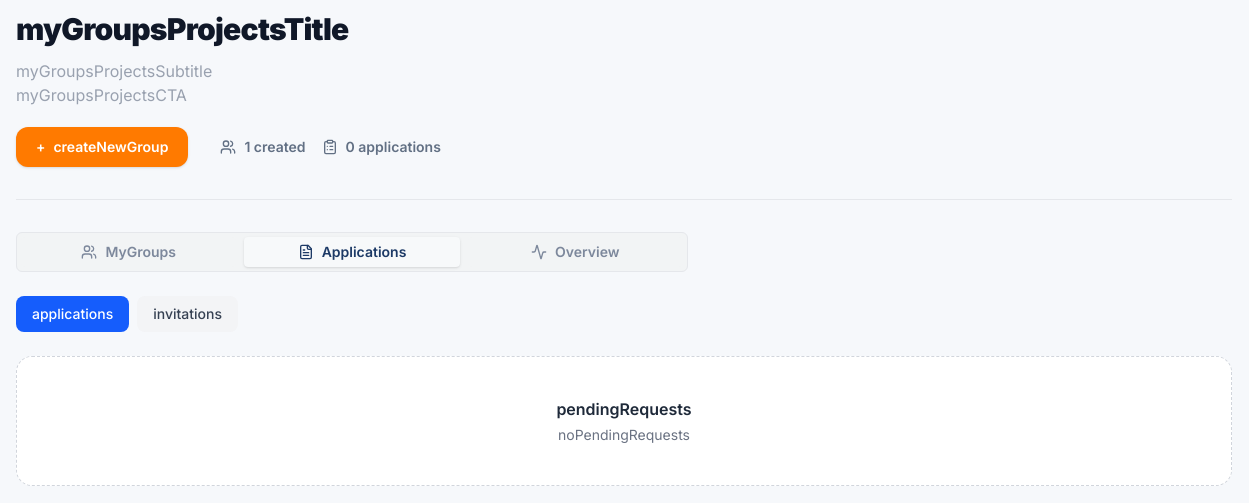
Scenario: MyGroupsPage Report5 › UTC28 [N] Render invitation with topic and message => Shows all details
The width and height of the screenshot is (1249, 503).
Click the button "invitations": (188, 314) [137,296,238,332]
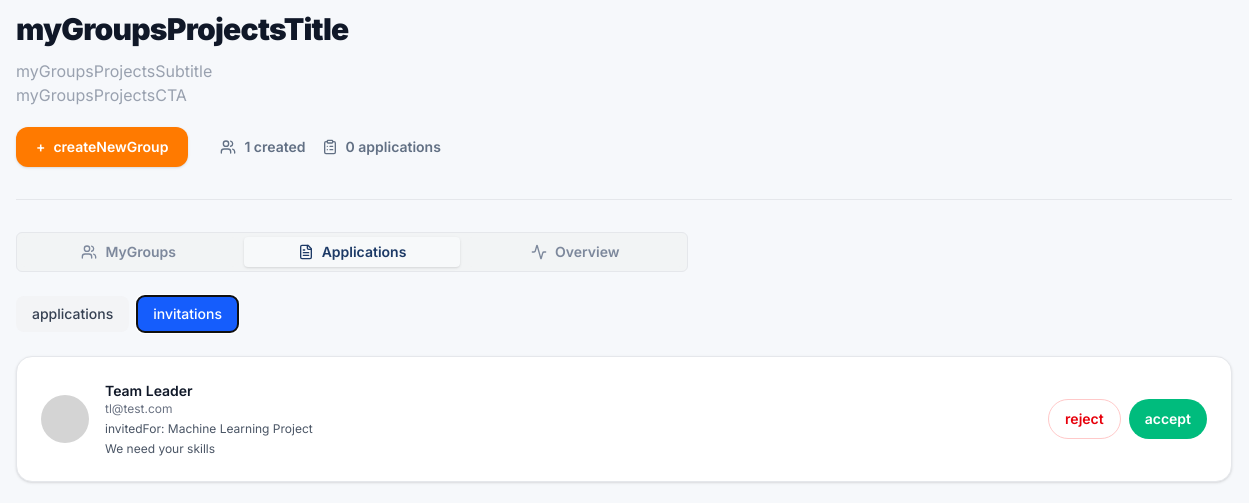
Expected: the text "Team Leader" is shown, [105,382,193,399]
Expected: the text "tl@test.com" is shown, [105,401,172,416]
